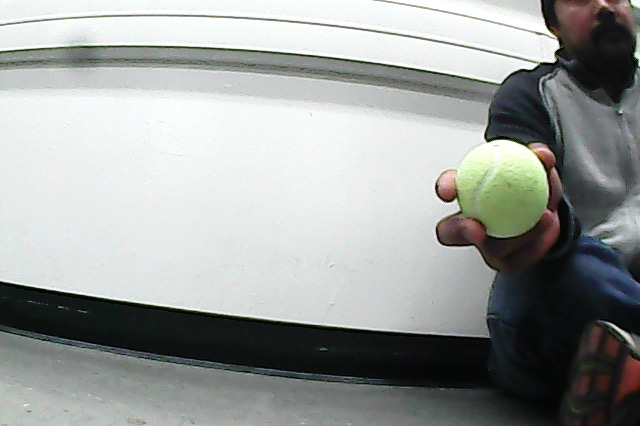ball: (452, 135, 554, 242)
